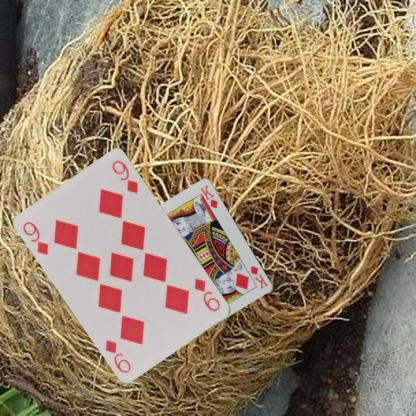9d: (192, 275, 222, 313), (20, 219, 50, 256)
Kd: (248, 263, 269, 290)
